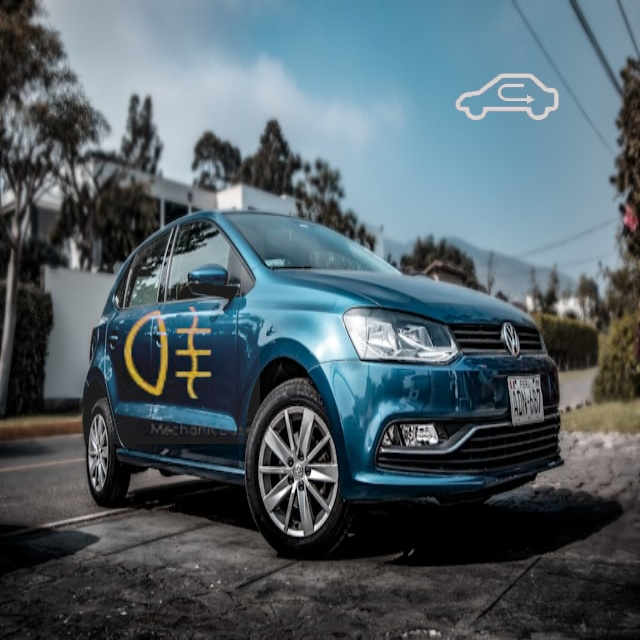symbol: (79, 263, 260, 444), (439, 30, 576, 167)
